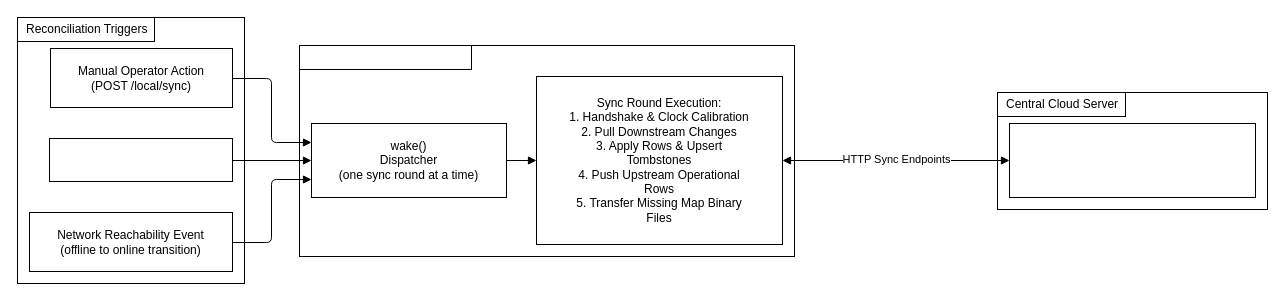
This 1285x301 diagram has some shape labels left out. The shapes that lost their labels are listed below. From the top down, each one's centre as x and y in pixels, then its label:
the point at 385,57: sync_agent.js (Onboard Unit)
the point at 140,160: 5-Minute Periodic Timer
the point at 1132,160: sync_engine.js Serve Changes & Acknowledge Watermarks
